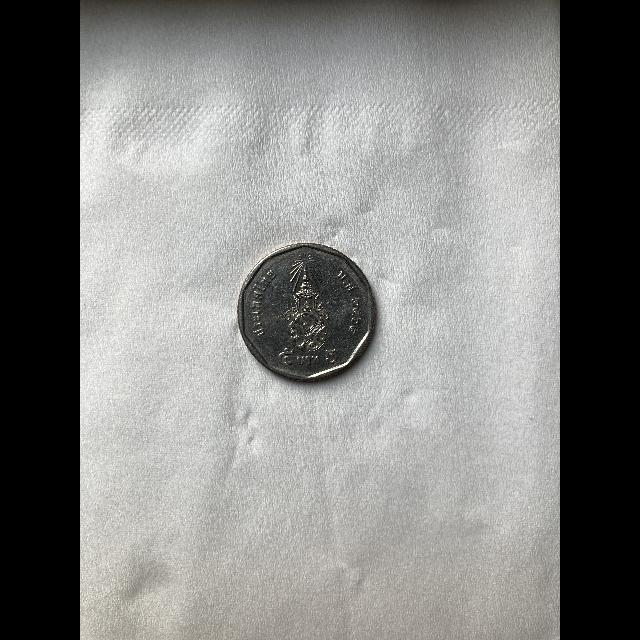5 Bath: (234, 236, 382, 387)
